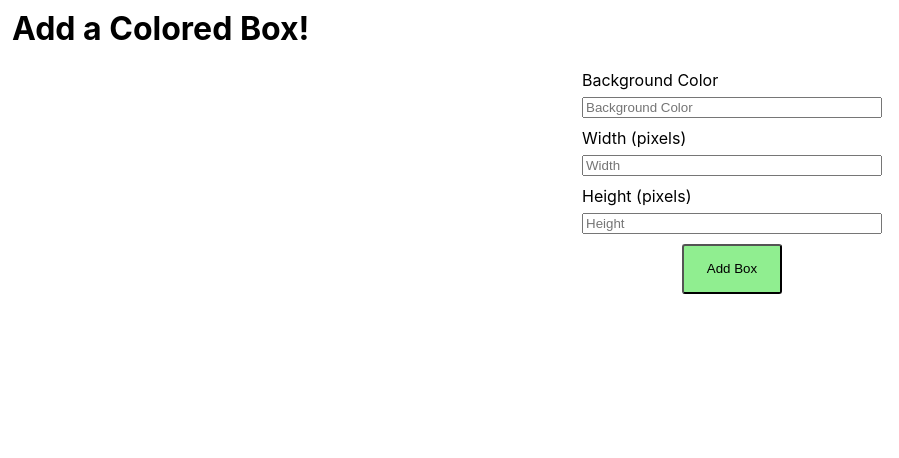
adds a new box
The width and height of the screenshot is (899, 458).
Type "blue" into the field labelled "Background Color". click: [732, 107]
box: 582,97 -> 882,118
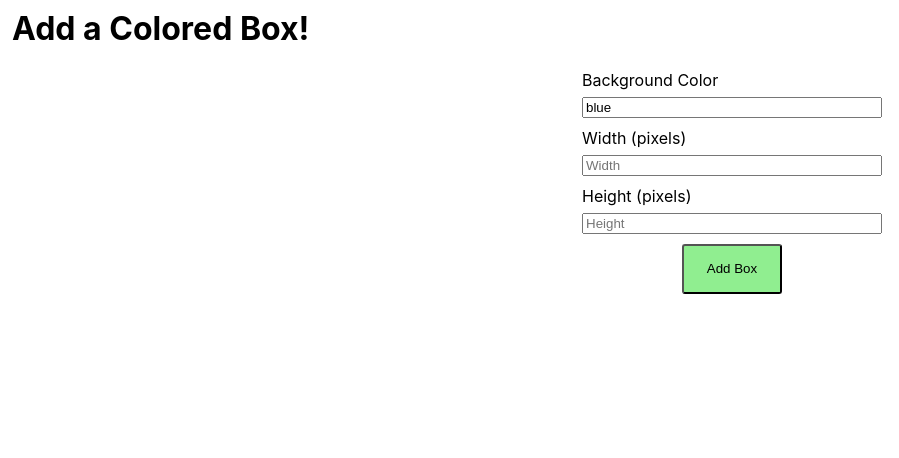
Type "100" into the field labelled "Width (pixels)". click: [732, 165]
box: 582,155 -> 882,176
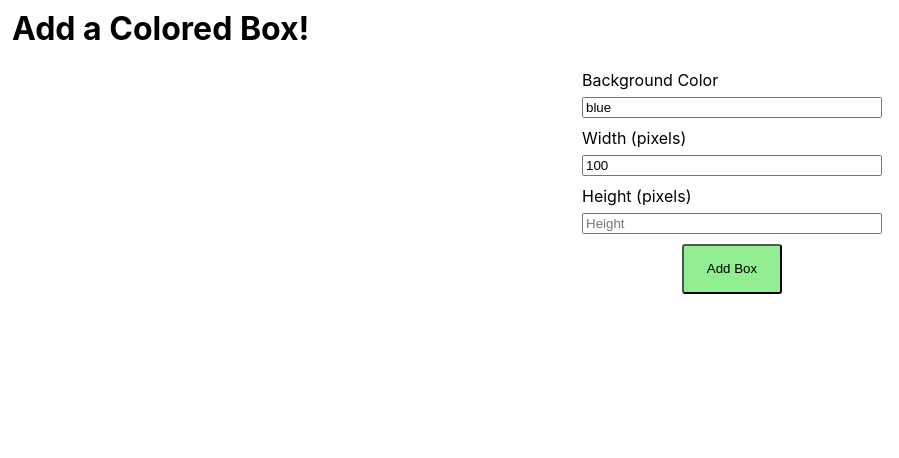
Type "100" into the field labelled "Height (pixels)". click: [732, 223]
box: 582,213 -> 882,234
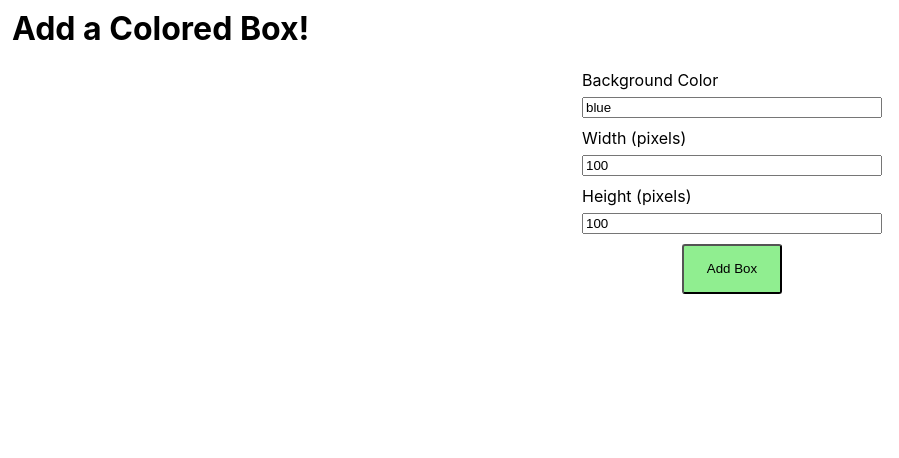
Click the button "Add Box". click: [732, 269]
box: 682,244 -> 782,294
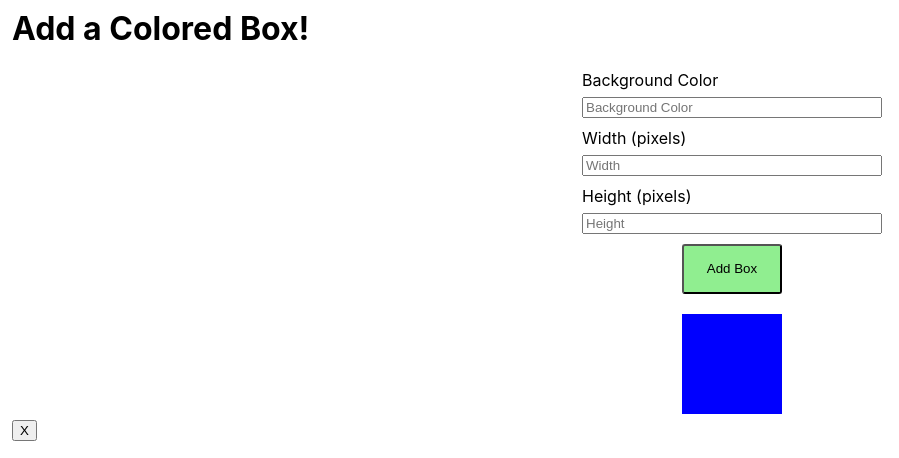
Expected: the number of fields is 3, 582,97 -> 882,118; 582,155 -> 882,176; 582,213 -> 882,234
Now the button "X" is shown, box 12,420 -> 37,441
